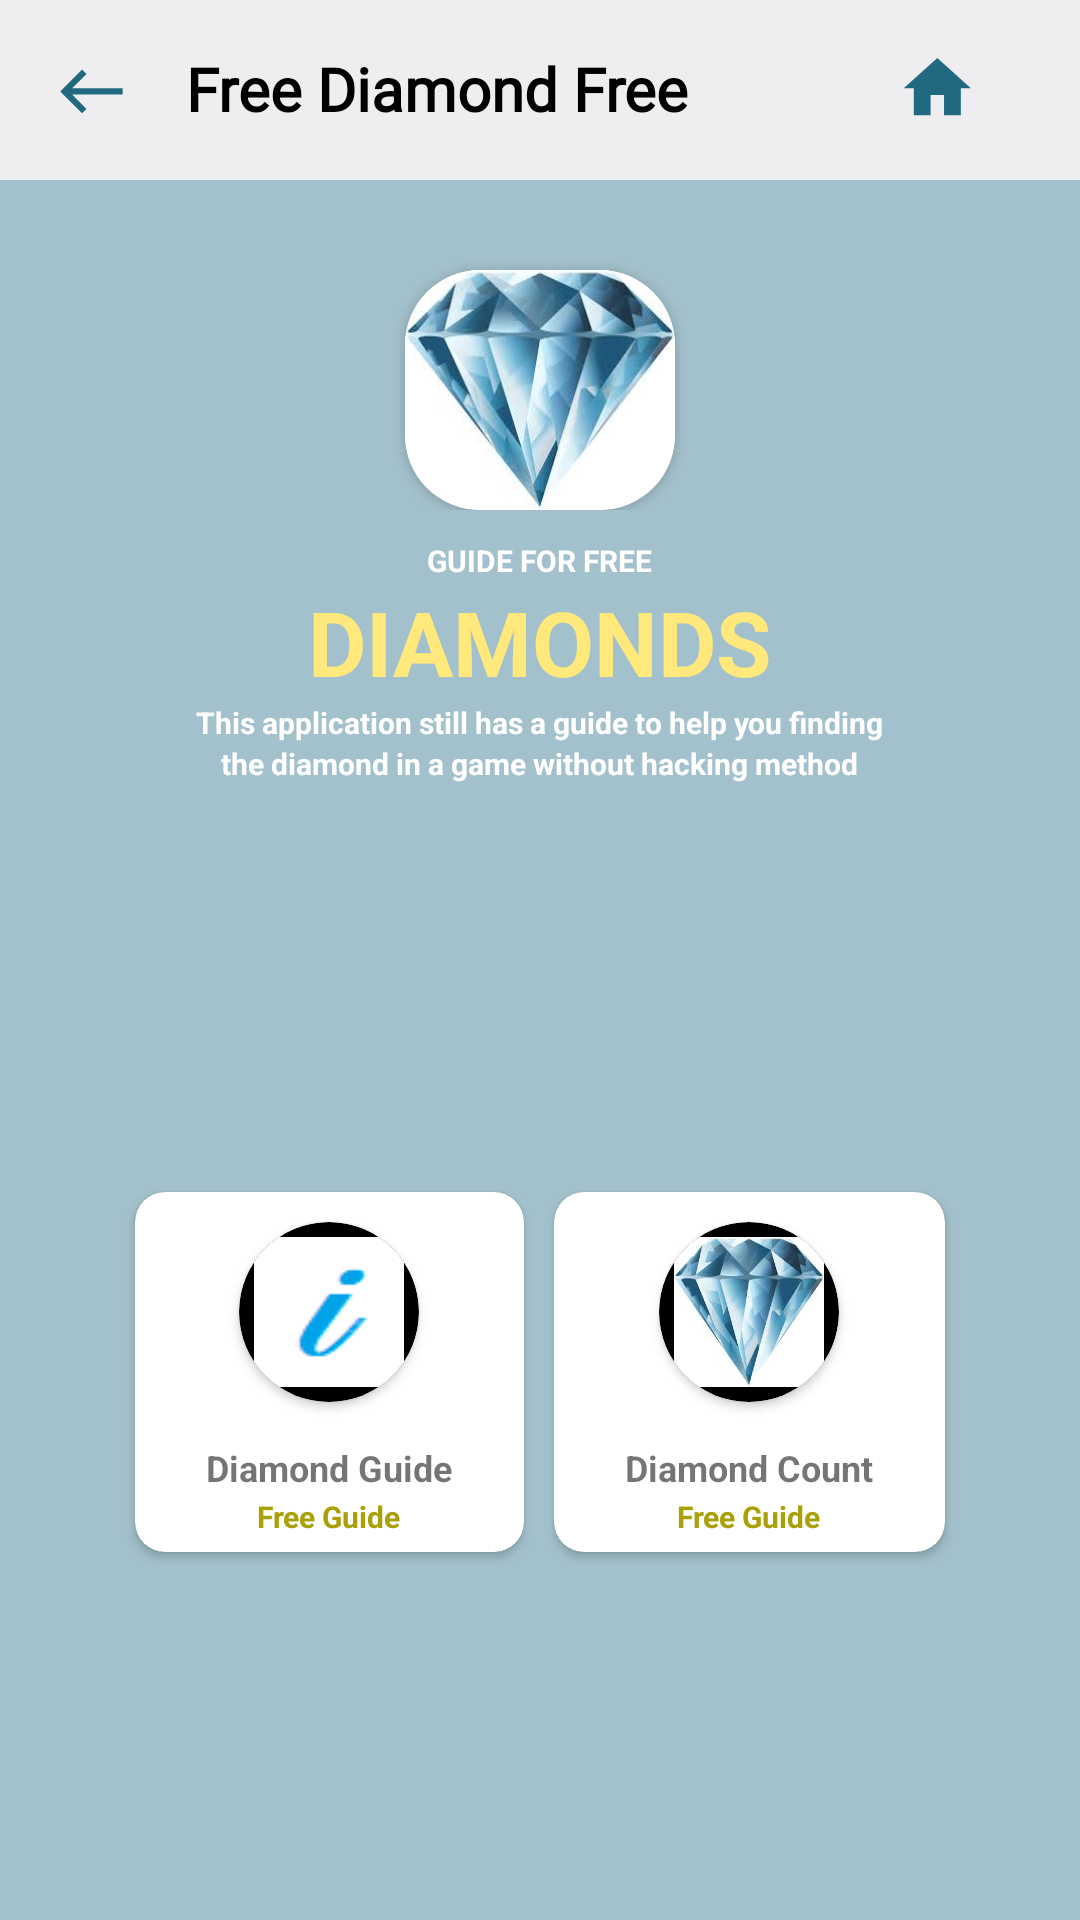

Icons on this 1080×1920 Android screen, each with the point to tap as [x,y]:
back: [91,91]
home: [937,87]
